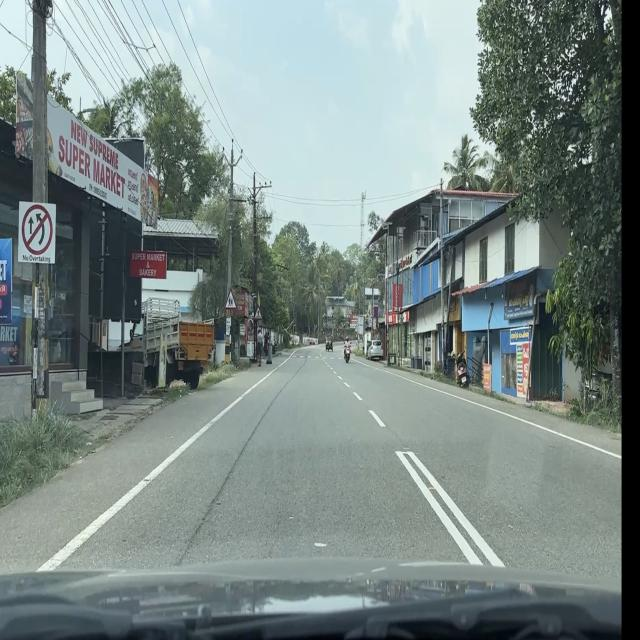OVERTAKING_PROHIBITED: (17, 200, 56, 265)
SCHOOL_AHEAD: (224, 287, 238, 310)
